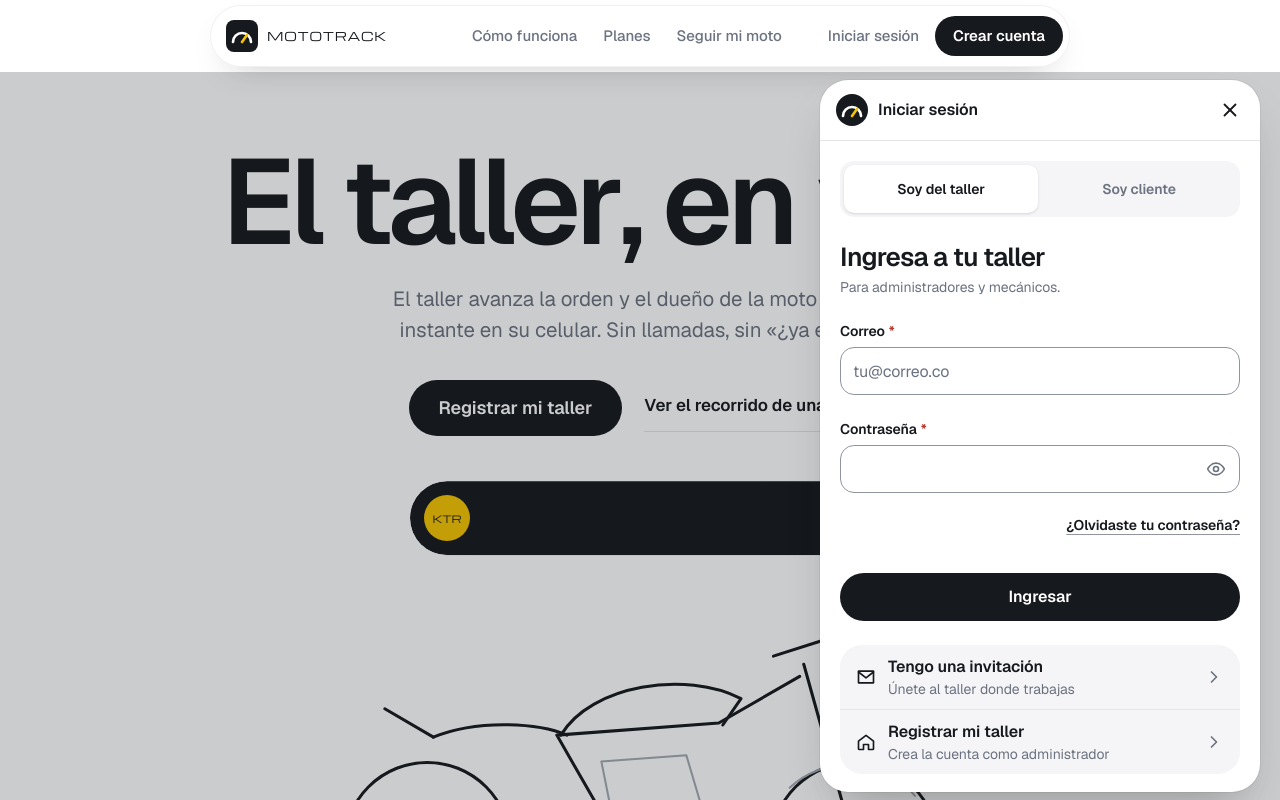
HU-19 · Inicio de sesión › "¿Olvidaste tu contraseña?" explica qué hacer
Click the button "¿Olvidaste tu contraseña?" at point(1153, 525), box [1066,501,1240,549]
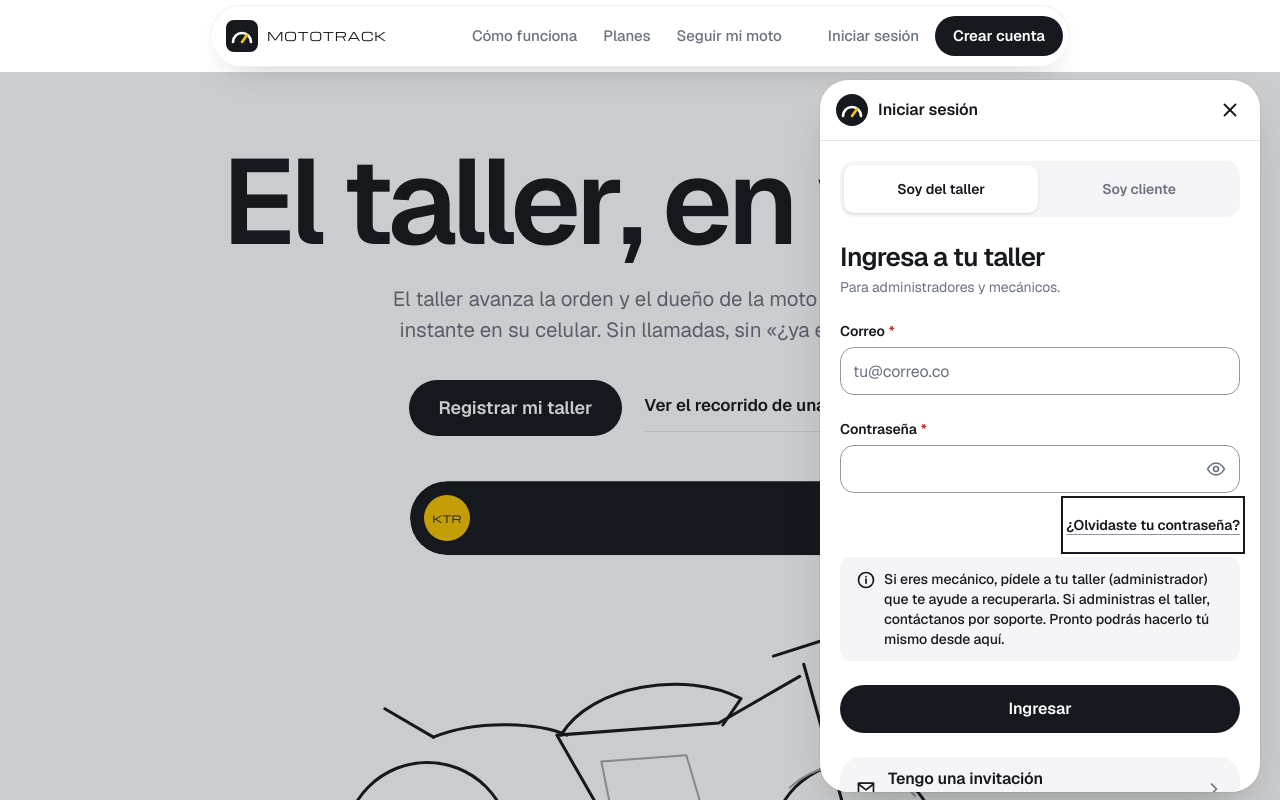
expect the text "pídele a tu taller" is shown: met, box [884,570,1210,648]
